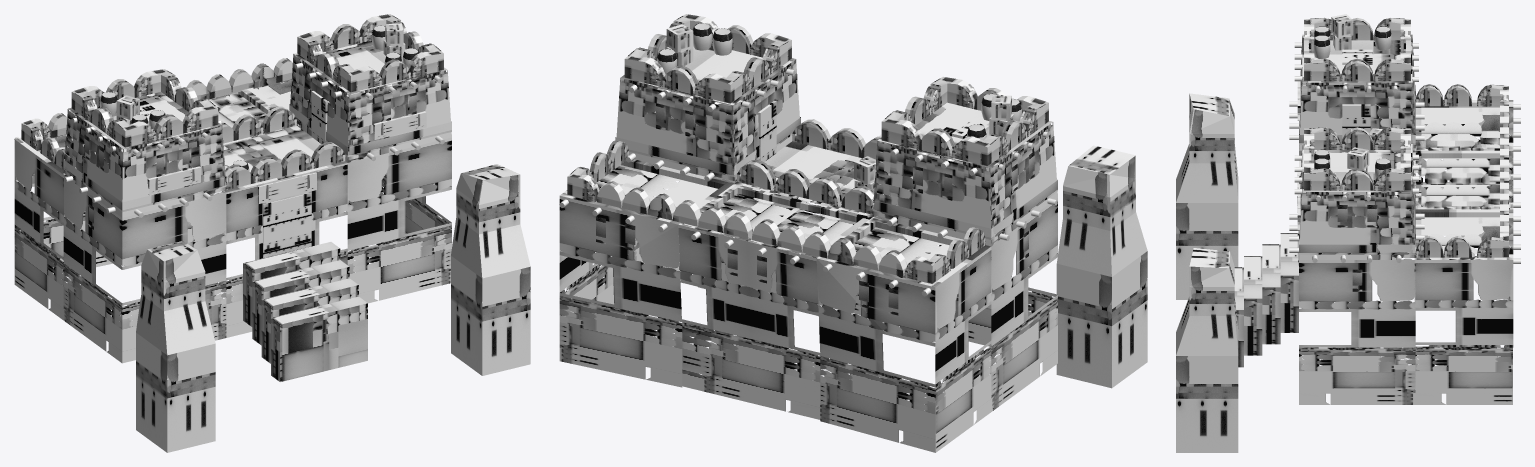
The picture shows the model from 3 angles, left to right: view 1: azimuth 30°, elevation 25°; view 2: azimuth 150°, elevation 25°; view 3: azimuth 270°, elevation 25°; orthographic projection. The views are drawn at different scales.
Visible parts, largest first — view 1: cc; view 2: cc; view 3: cc.
Boxes of the visible parts, x1,y1,x2,y2 form: cc: [14, 14, 530, 452]; cc: [559, 14, 1147, 452]; cc: [1176, 14, 1520, 452].
Size of the model in its own units: 35.68 by 29.48 by 26.36.
Materials: 1 (1 with a texture image).
